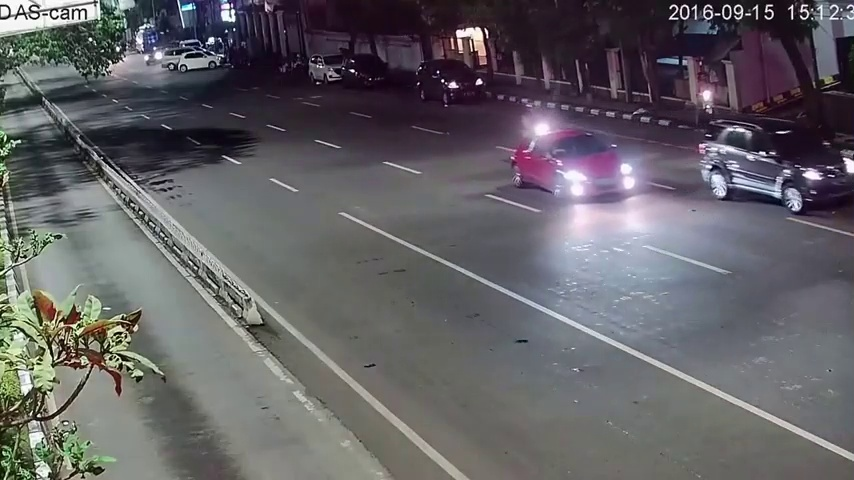car: (697, 114, 853, 220), (511, 123, 633, 202), (414, 59, 485, 109), (342, 52, 391, 89), (307, 52, 344, 85), (177, 51, 225, 74), (142, 46, 161, 68)
motorbike: (518, 107, 548, 146), (696, 72, 718, 121)
